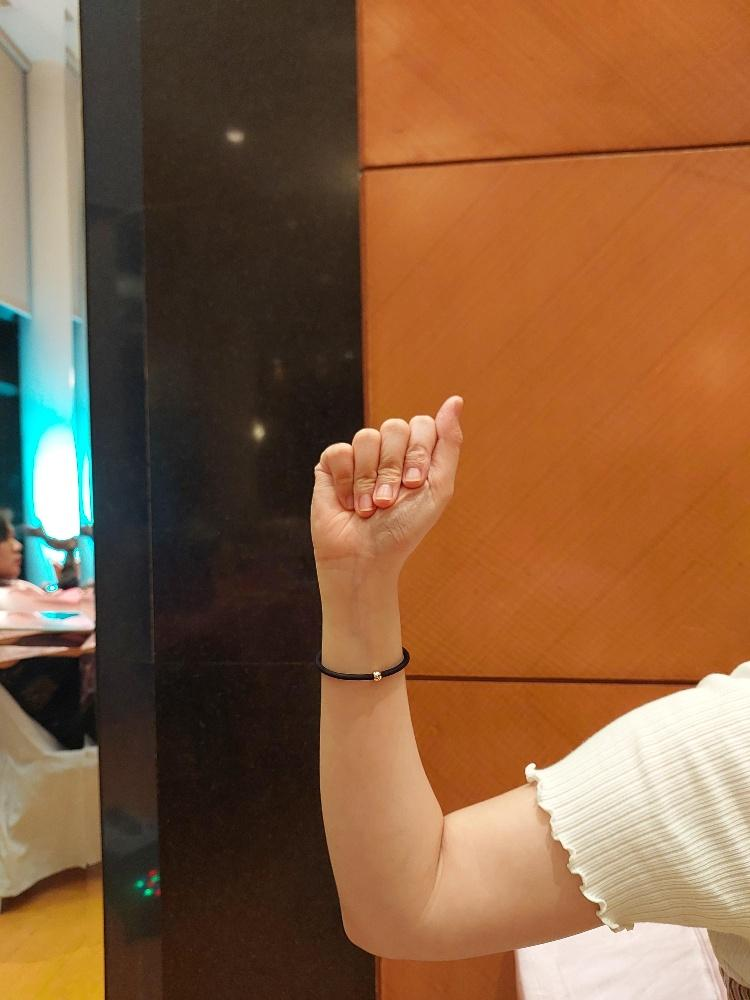a: (307, 392, 466, 570)
